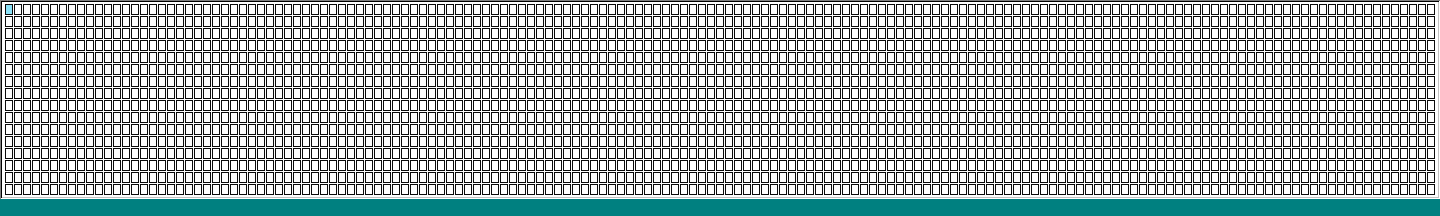
Test: DefragMap › shows the info box on hover and hides it on leave
Hover over the button named "1 September 2026" at (9, 10), box [5, 4, 13, 15]
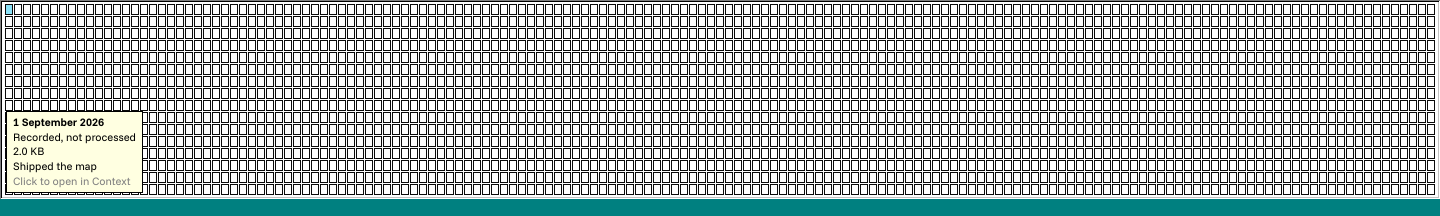
expect the tooltip shows "Shipped the map": met, box [13, 159, 97, 173]
expect the tooltip shows "2.0 KB": met, box [13, 144, 44, 158]
Move the pointer off the button named "1 September 2026", box [5, 4, 13, 15]
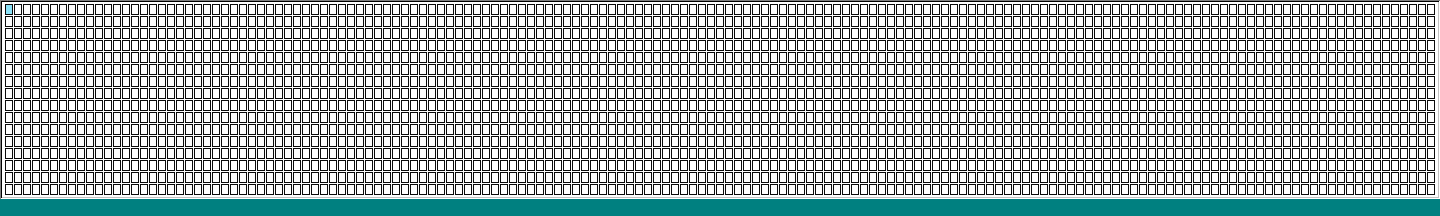
expect the tooltip is gone: met
